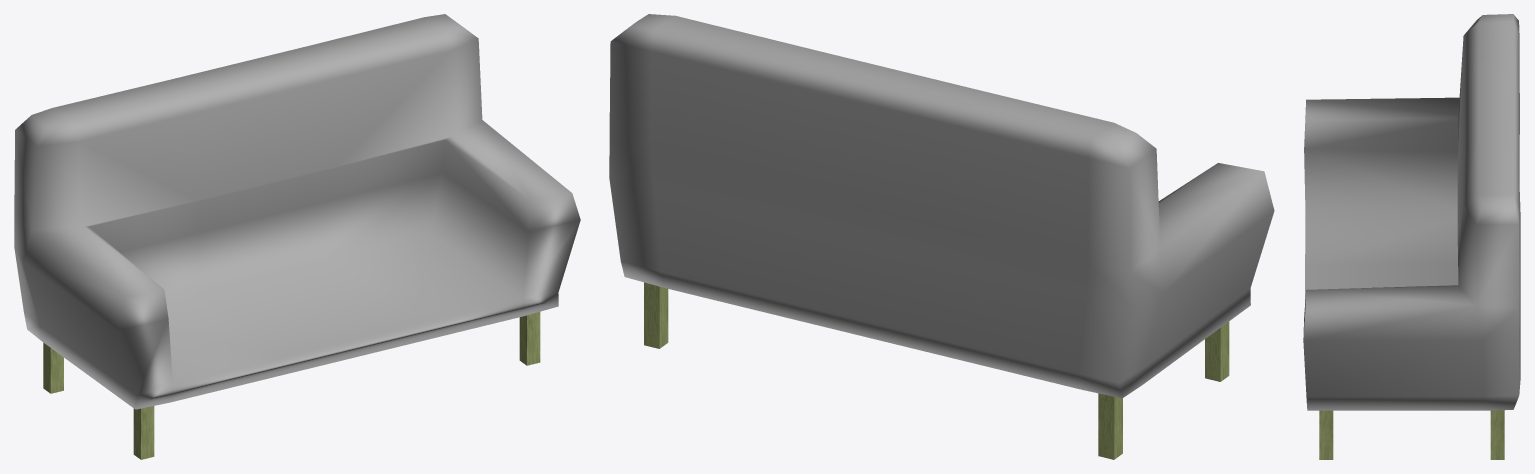
Rendered from sofa_collisionbox.fbx.
3 renders of one model, left to right at view 1: azimuth 30°, elevation 25°; view 2: azimuth 150°, elevation 25°; view 3: azimuth 270°, elevation 25°, orthographic. The views are drawn at different scales.
Visible parts, largest first — view 1: sofa_collision; view 2: sofa_collision; view 3: sofa_collision.
Part boxes in pixels (x1=…): sofa_collision: x1=14, y1=14, x2=580, y2=459; sofa_collision: x1=609, y1=14, x2=1274, y2=459; sofa_collision: x1=1303, y1=14, x2=1520, y2=459.
Bounding box in the file's own units: 222 × 126 × 95.22.
